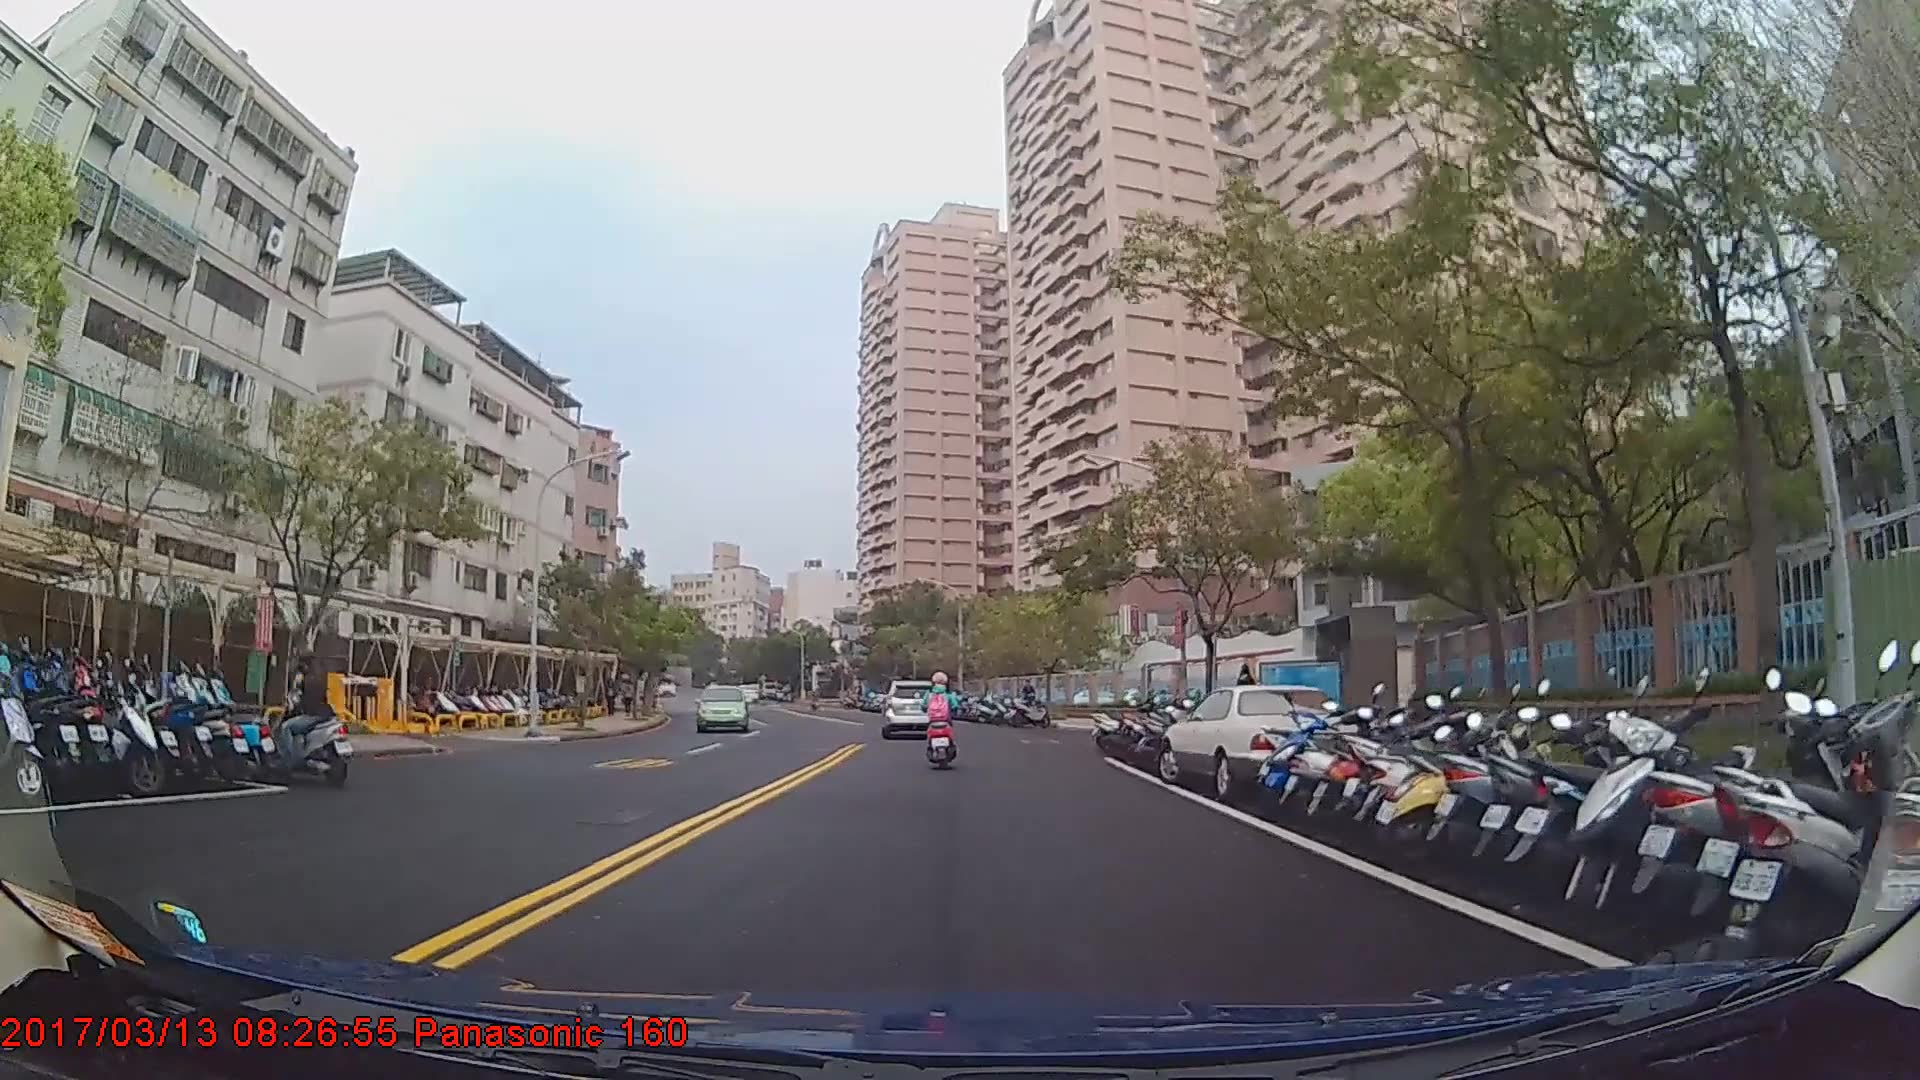pedestrian: (1235, 663, 1260, 727)
rider: (262, 646, 340, 778), (921, 669, 962, 775)
vehicle: (1158, 683, 1368, 799), (877, 678, 939, 737), (694, 684, 749, 735)
